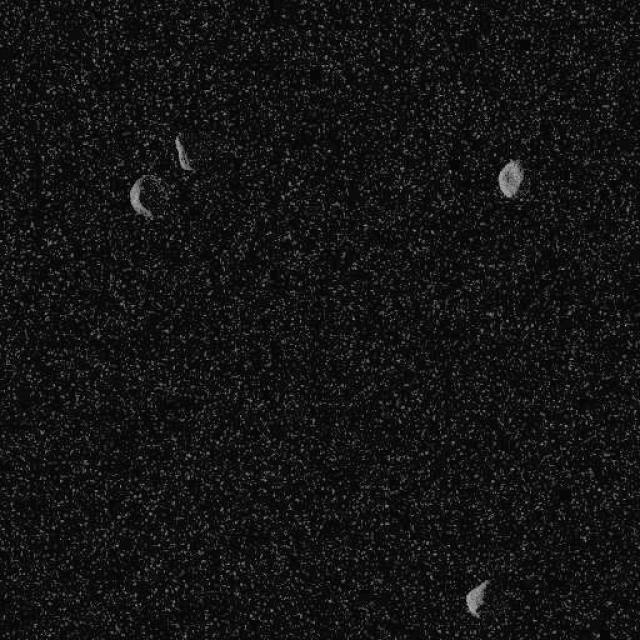D2: (128, 172, 168, 220), (496, 158, 524, 198), (464, 578, 490, 618), (172, 132, 194, 172)
